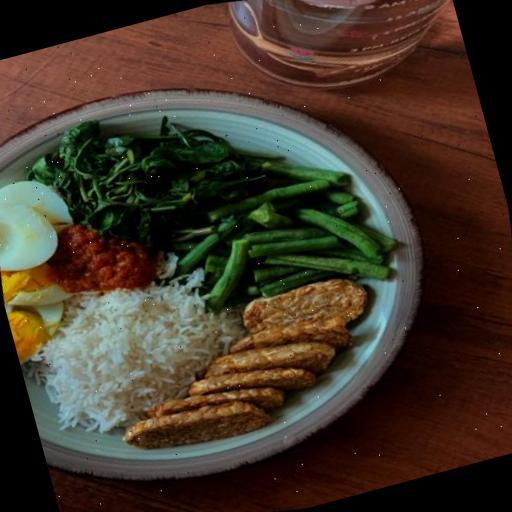buncis_rebus: (180, 118, 428, 332)
nasi_putih: (38, 252, 247, 430)
tempe_goreng: (224, 253, 395, 371)
